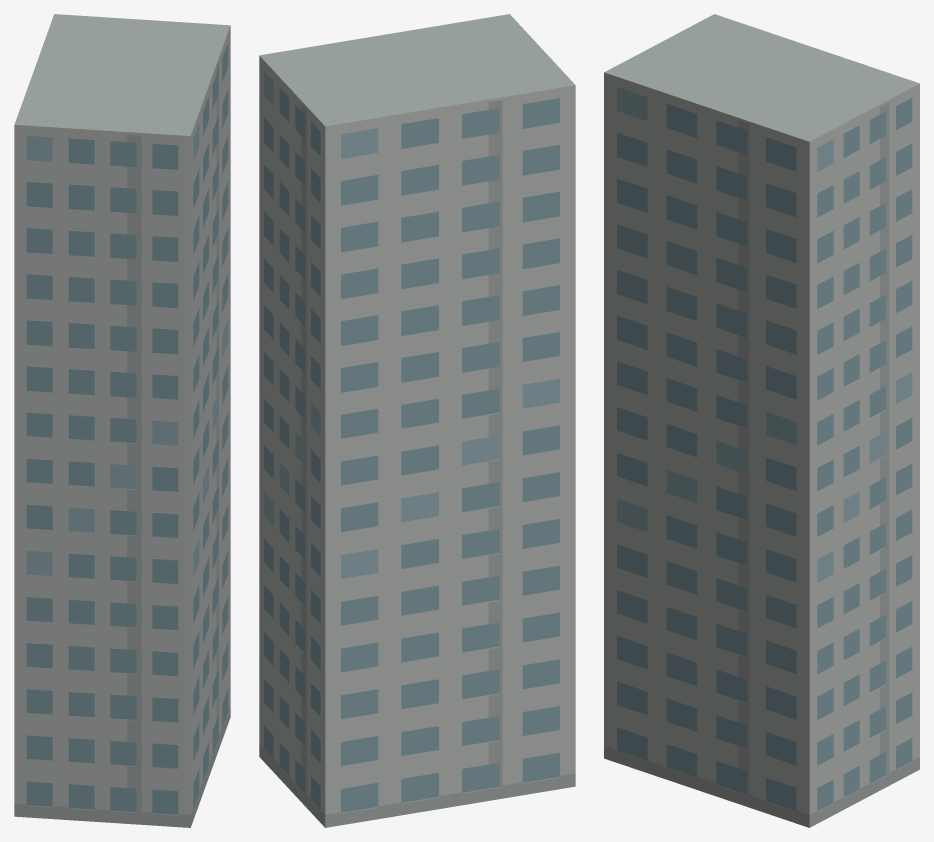
The model's file is residential-4e6731dc-52be-4346-9e01-640d5f49add9.glb.
3 renders of one model, left to right at view 1: azimuth 30°, elevation 25°; view 2: azimuth 150°, elevation 25°; view 3: azimuth 270°, elevation 25°, orthographic. The views are drawn at different scales.
Visible parts, largest first — view 1: residential-4e6731dc-52be-4346-9e01-640d5f49add9.tmp; view 2: residential-4e6731dc-52be-4346-9e01-640d5f49add9.tmp; view 3: residential-4e6731dc-52be-4346-9e01-640d5f49add9.tmp.
Part boxes in pixels (bbox=[...]): residential-4e6731dc-52be-4346-9e01-640d5f49add9.tmp: bbox=[14, 14, 230, 827]; residential-4e6731dc-52be-4346-9e01-640d5f49add9.tmp: bbox=[259, 14, 575, 827]; residential-4e6731dc-52be-4346-9e01-640d5f49add9.tmp: bbox=[604, 14, 919, 827].
Size of the model in its own units: 24.77 by 62 by 25.87.
